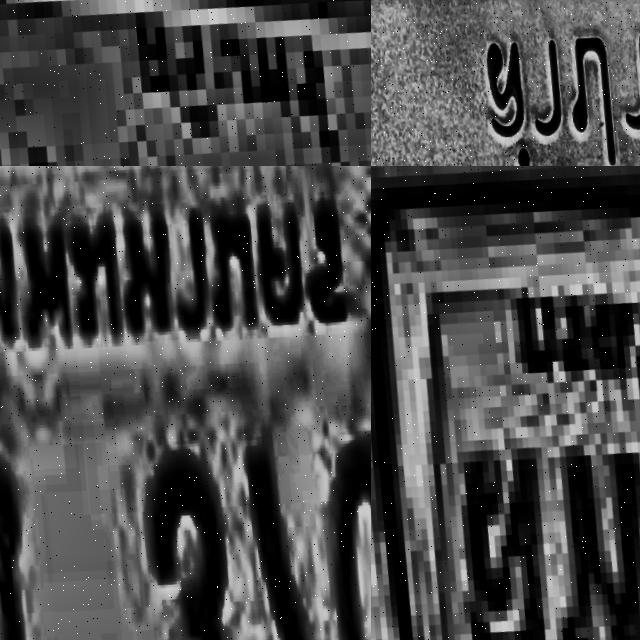license-plate: (0, 166, 371, 640), (371, 166, 640, 640), (0, 0, 371, 166), (371, 0, 640, 166)
